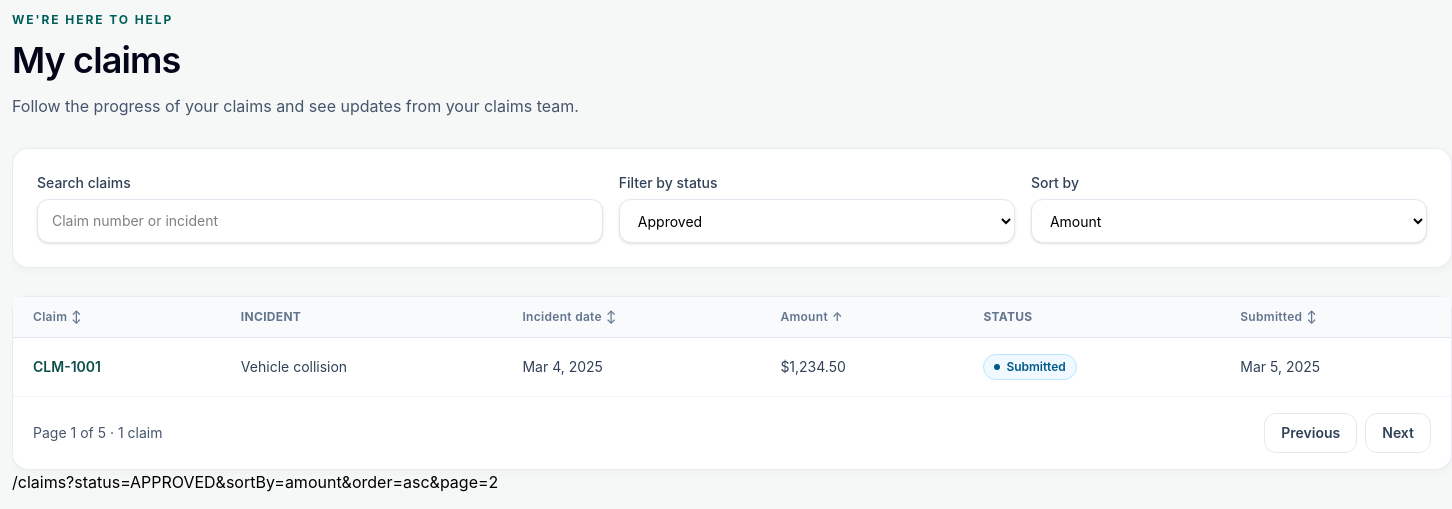
Test: shared status and claim-list behavior › reads filters, sort and page from the URL and writes changes back
The image size is (1452, 509).
Expected: the table named "Your claims and their current status" is shown, top-left (13, 297), bottom-right (1451, 396)
Expected: the dropdown labelled "Filter by status" shows "Approved", top-left (619, 199), bottom-right (1015, 243)
Step 1. Click the button "Next" → (1398, 433), box top-left (1365, 413), bottom-right (1431, 453)
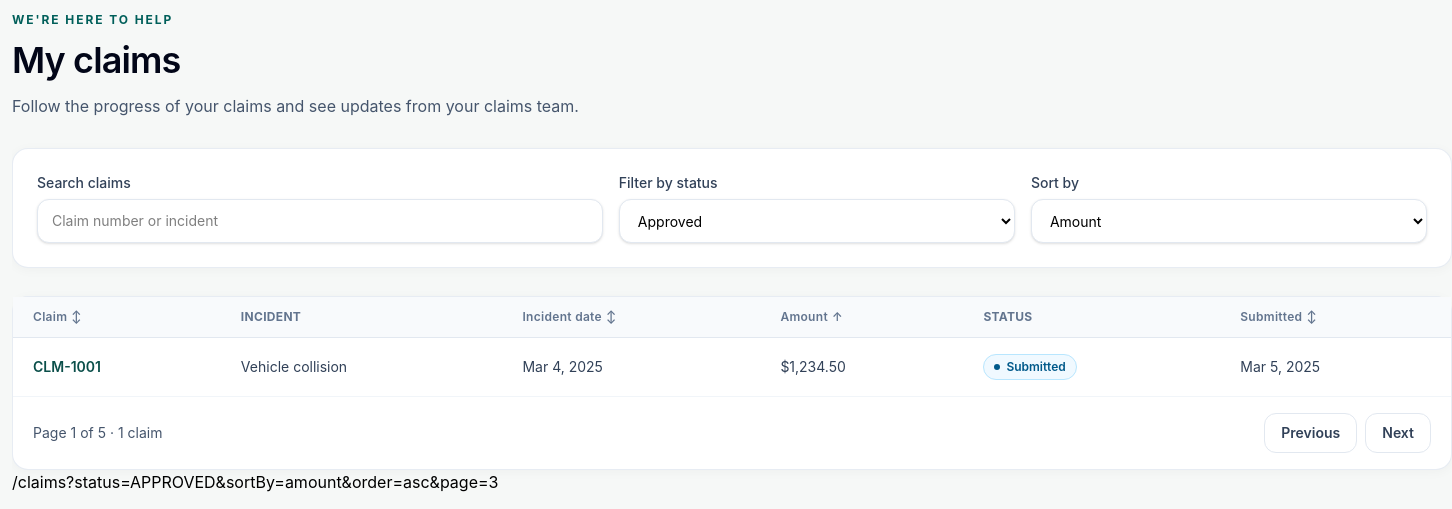
Expected: the text with test id "location" shows "page=3", top-left (12, 472), bottom-right (498, 492)
Step 2. Select "Rejected" in the dropdown labelled "Filter by status" → (817, 221), box top-left (619, 199), bottom-right (1015, 243)
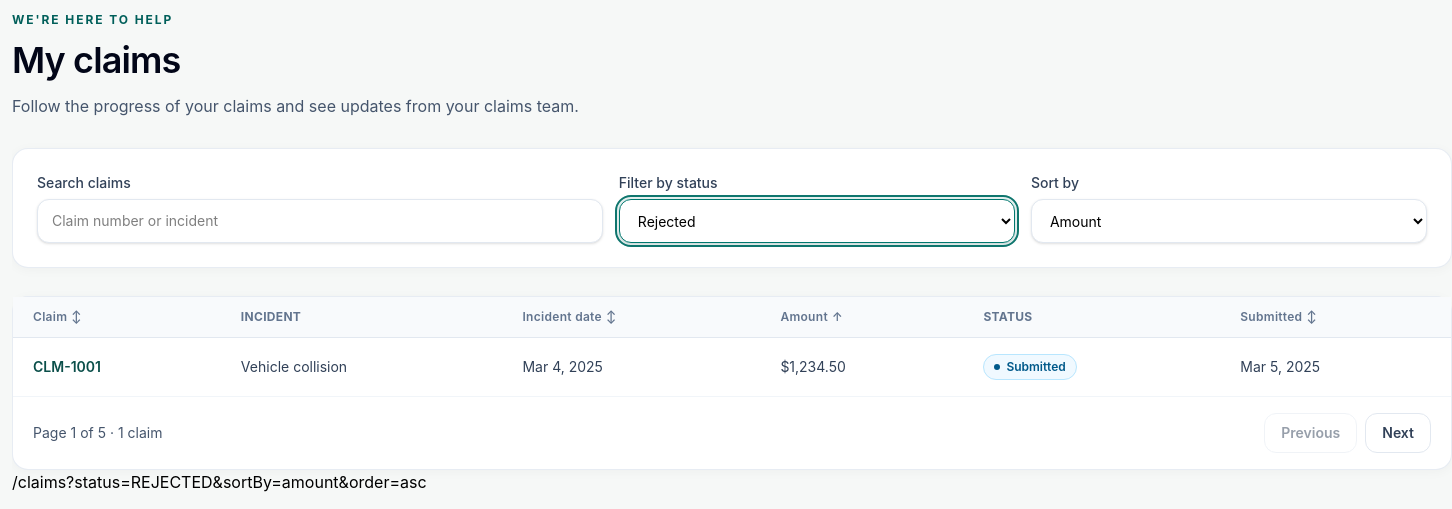
Expected: the text with test id "location" shows "status=REJECTED", top-left (12, 472), bottom-right (427, 492)
Expected: the text with test id "location" no longer shows "page=", top-left (12, 472), bottom-right (427, 492)
Step 3. Select "Claim number" in the dropdown labelled "Sort by" → (1229, 221), box top-left (1031, 199), bottom-right (1427, 243)
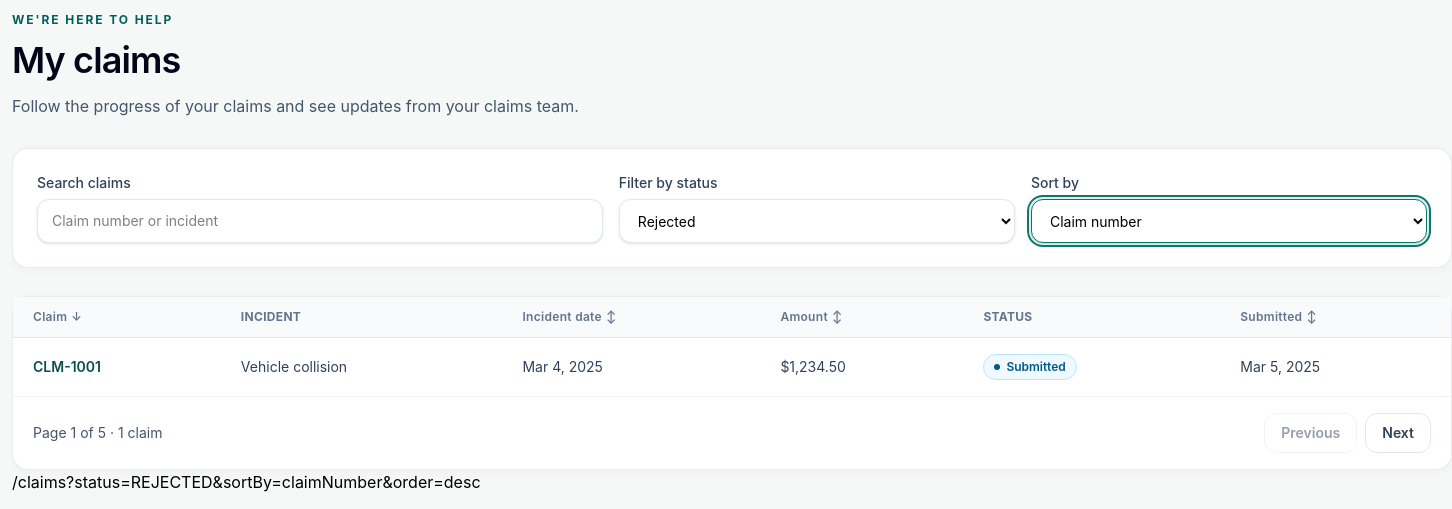
Expected: the text with test id "location" shows "sortBy=claimNumber", top-left (12, 472), bottom-right (480, 492)
Expected: the text with test id "location" shows "order=desc", top-left (12, 472), bottom-right (480, 492)
